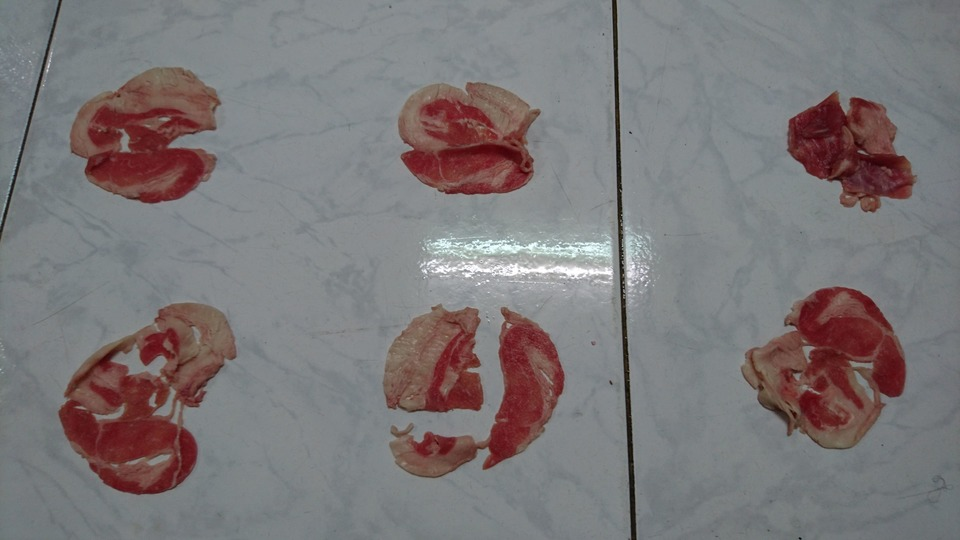restructured meat: (60, 301, 235, 498), (376, 304, 565, 476), (731, 280, 904, 451), (72, 66, 222, 208), (779, 79, 921, 214), (396, 75, 538, 198)
